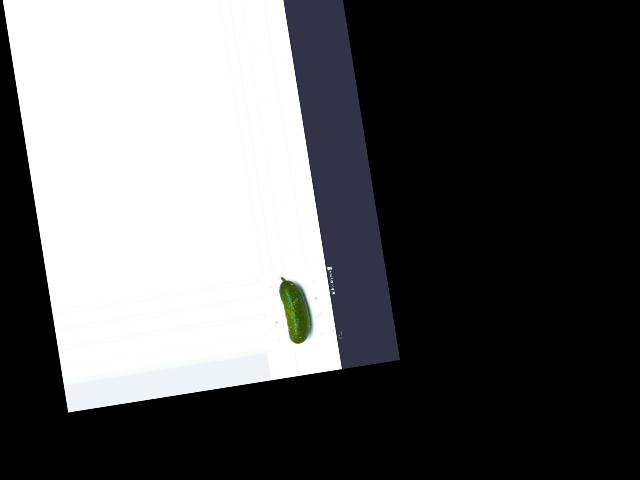cucumber: (277, 273, 313, 346)
